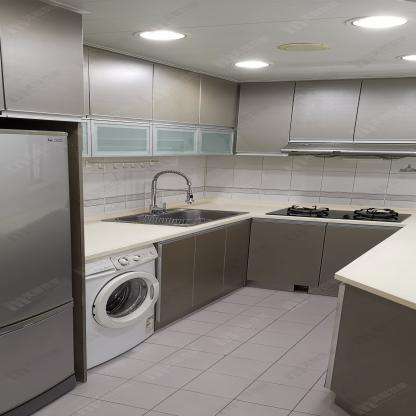Cupboard: (81, 43, 416, 157), (162, 220, 400, 327), (0, 1, 85, 122)
Exhaust Hood: (280, 143, 416, 160)
Faucet: (148, 166, 199, 212)
Fridge: (0, 129, 78, 416)
Sink: (101, 207, 248, 227)
Stove: (264, 205, 413, 222)
Washing Machine: (82, 243, 158, 370)
